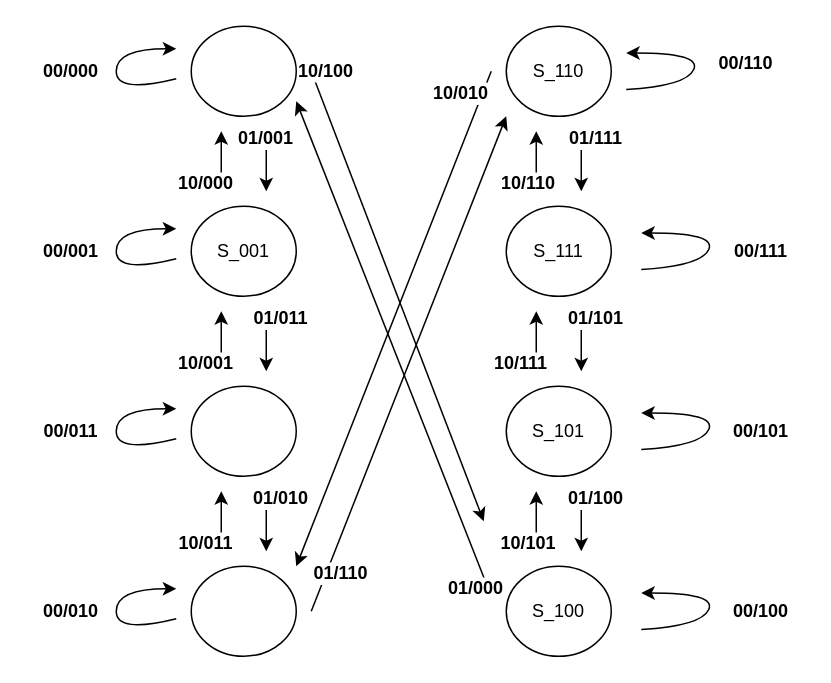
Image size: 831x683. Some labels were removed from this diagram. Each missing label, with the centre of its shape:
"S_000" goes at (x=243, y=70).
"S_010" goes at (x=243, y=610).
"S_011" goes at (x=243, y=430).
